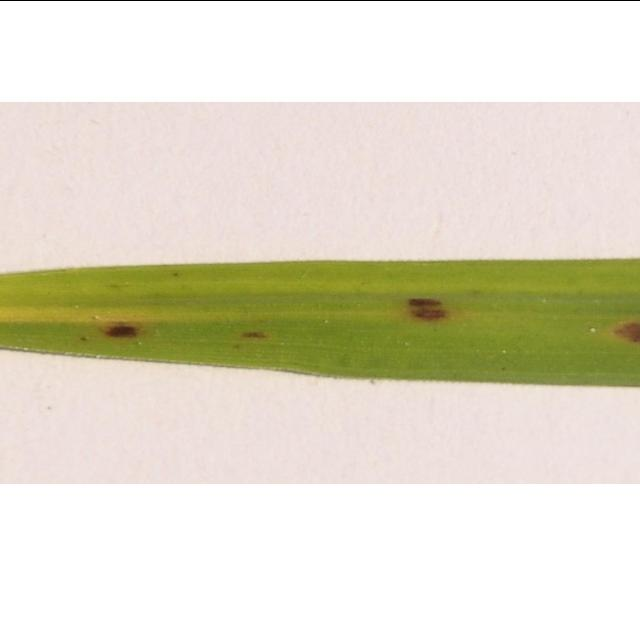Brown spot: (58, 307, 150, 356), (216, 316, 290, 357), (394, 292, 460, 330), (597, 306, 640, 358), (166, 262, 193, 286)
